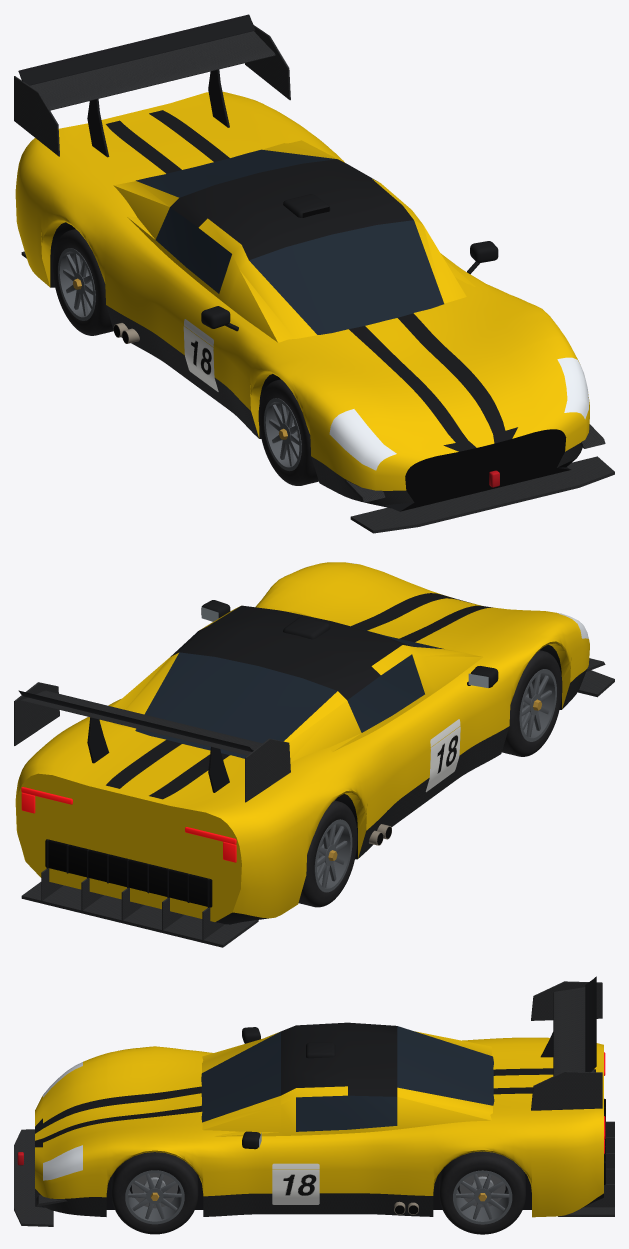
File: gt_race_car.glb
3 views of the same model, one above another, from view 1: azimuth 30°, elevation 25°; view 2: azimuth 150°, elevation 25°; view 3: azimuth 270°, elevation 25° (orthographic). The views are drawn at different scales.
Parts seen in each view (by area): view 1: Body, Wheel_RR, Wheel_FR; view 2: Body, Wheel_FR, Wheel_RR; view 3: Body, Wheel_RL, Wheel_FL.
Boxes of the visible parts, left/top/right/bottom form: Body: left=14, top=14, right=614, bottom=533; Wheel_RR: left=52, top=229, right=113, bottom=335; Wheel_FR: left=258, top=379, right=318, bottom=485; Body: left=14, top=562, right=614, bottom=947; Wheel_FR: left=502, top=650, right=562, bottom=756; Wheel_RR: left=298, top=800, right=357, bottom=907; Body: left=14, top=976, right=614, bottom=1226; Wheel_RL: left=439, top=1151, right=525, bottom=1234; Wheel_FL: left=111, top=1152, right=198, bottom=1234.
Size of the model in its own units: 2.17 by 1.48 by 4.86.
Materials: 18 (3 with a texture image).
